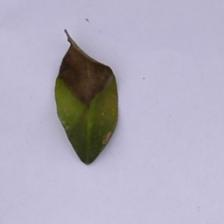black spot: (48, 31, 120, 107)
